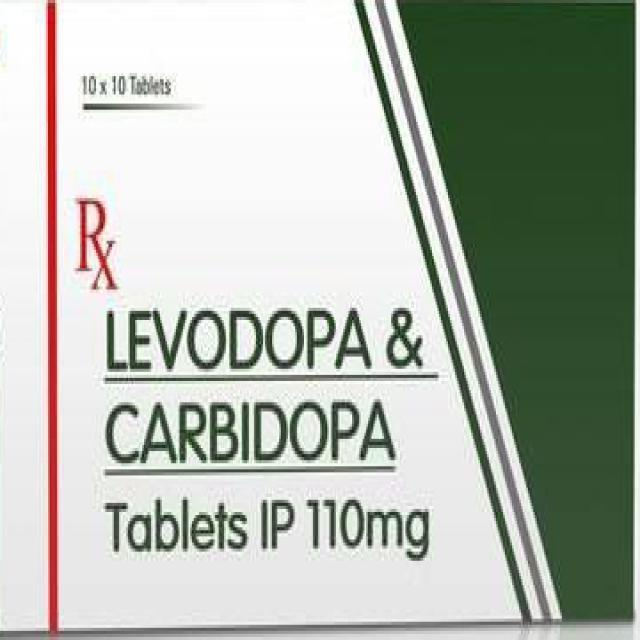drug-name: (100, 300, 440, 472)
